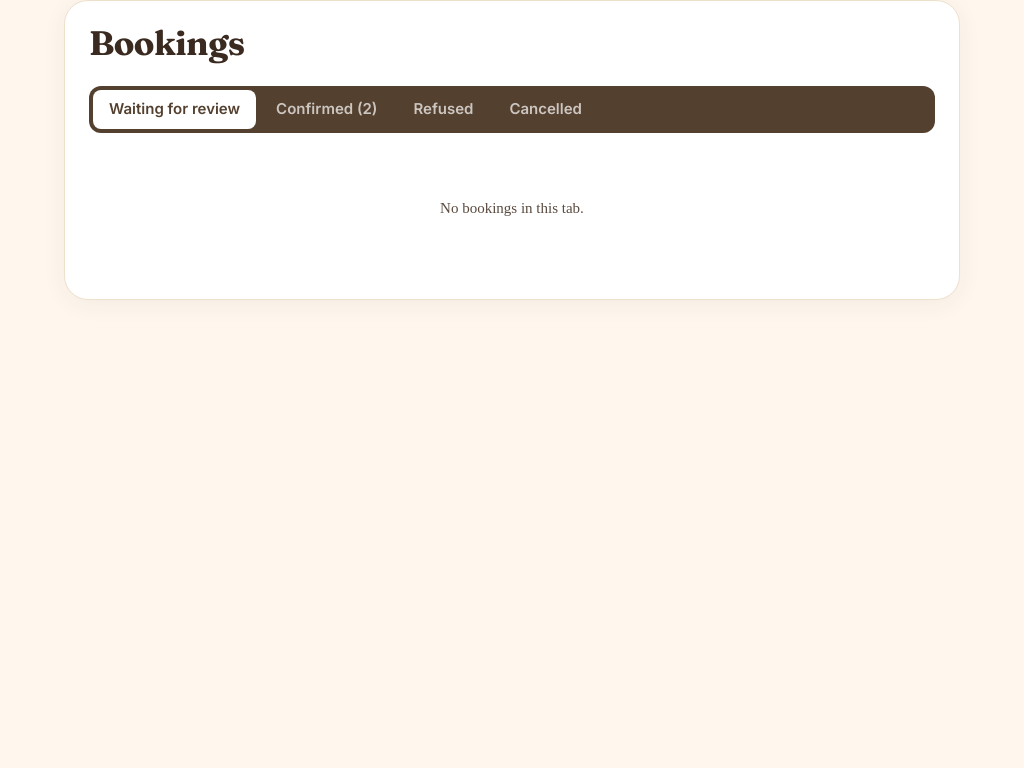
the bookings desk › records each pet, then charges once for what the arrivals cost
The width and height of the screenshot is (1024, 768).
Click the button "Confirmed (2)" at [327, 110], box [260,90,394,129]
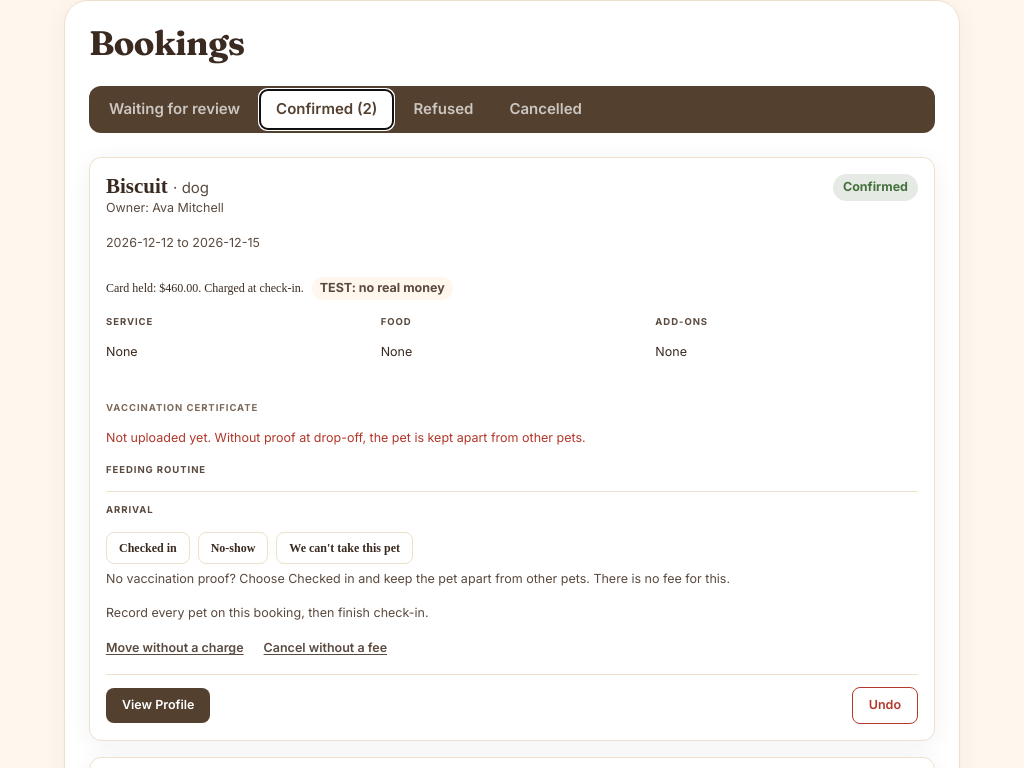
expect the text "Card held: $460.00. Charged at check-in." is shown 2 times: met
expect the text "TEST: no real money" is shown 2 times: met
expect the text "Record every pet on this booking, then finish check-in." is shown: met, box [106,606,428,620]
Click the button "Checked in" at [148, 548], box [106,532,190,564]
(page scrolled)
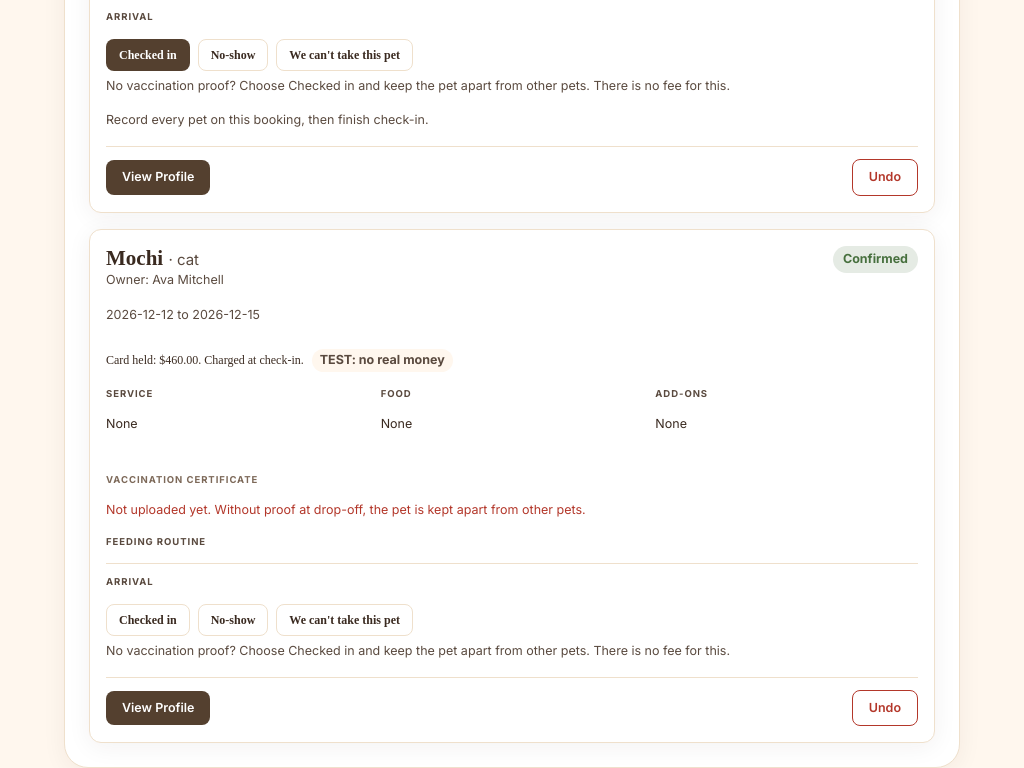
expect the 1st button "Checked in" is pressed: met, box [106,39,190,71]
Click the 2nd button "No-show" at [233, 620], box [198,604,268,636]
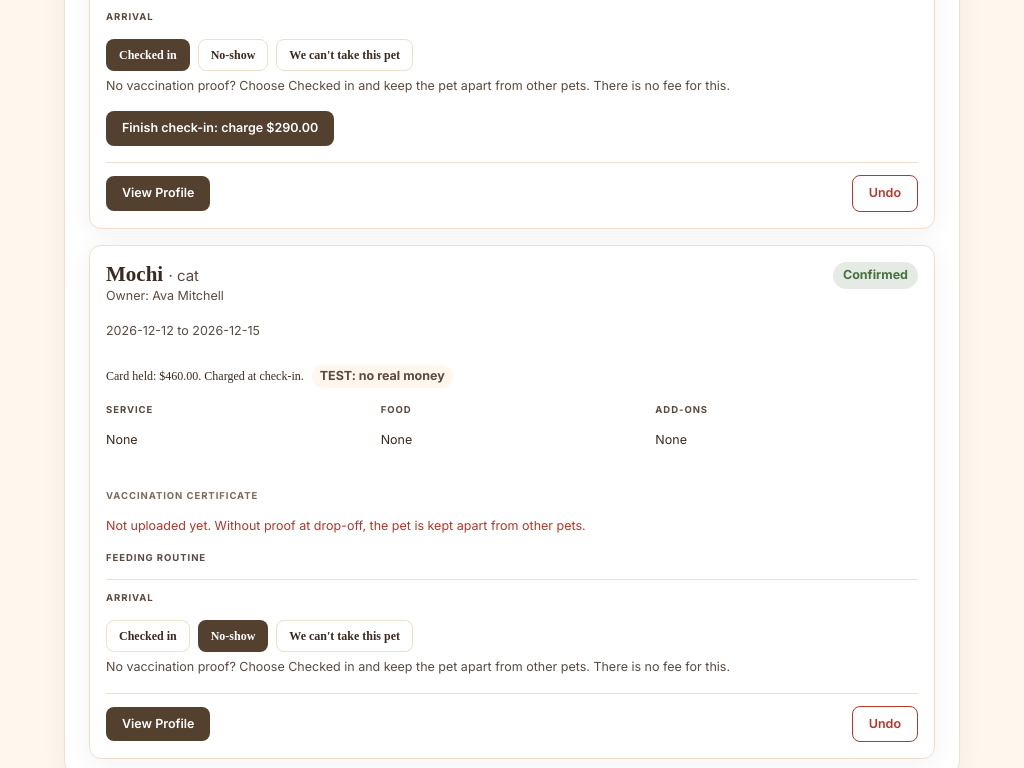
Click the button "Finish check-in: charge $290.00" at [220, 129], box [106,112,334,146]
(page scrolled)
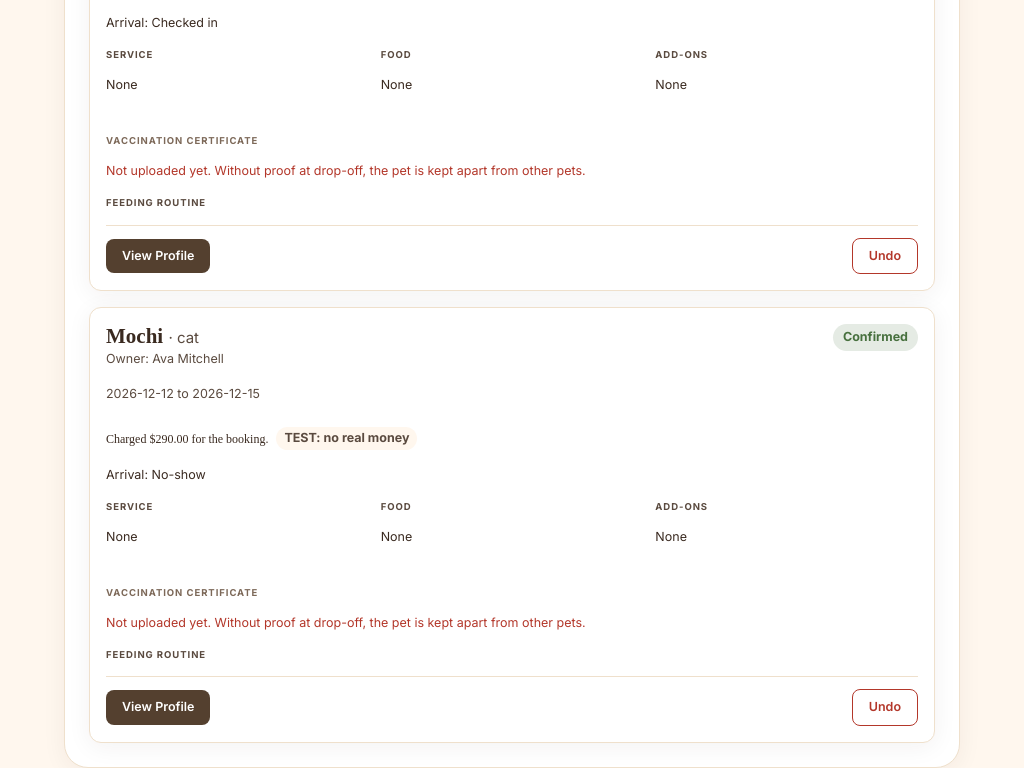
expect the text "Charged $290.00 for the booking." is shown 2 times: met
expect the text "Arrival: Checked in" is shown: met, box [106,15,218,30]
